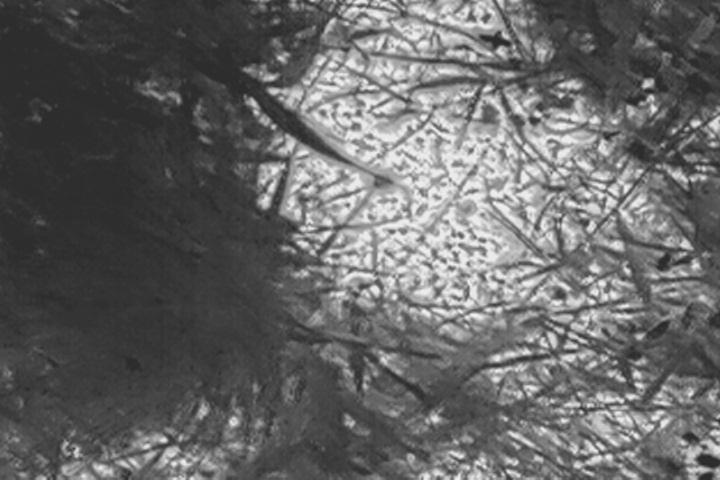landmine: (265, 71, 497, 289)
